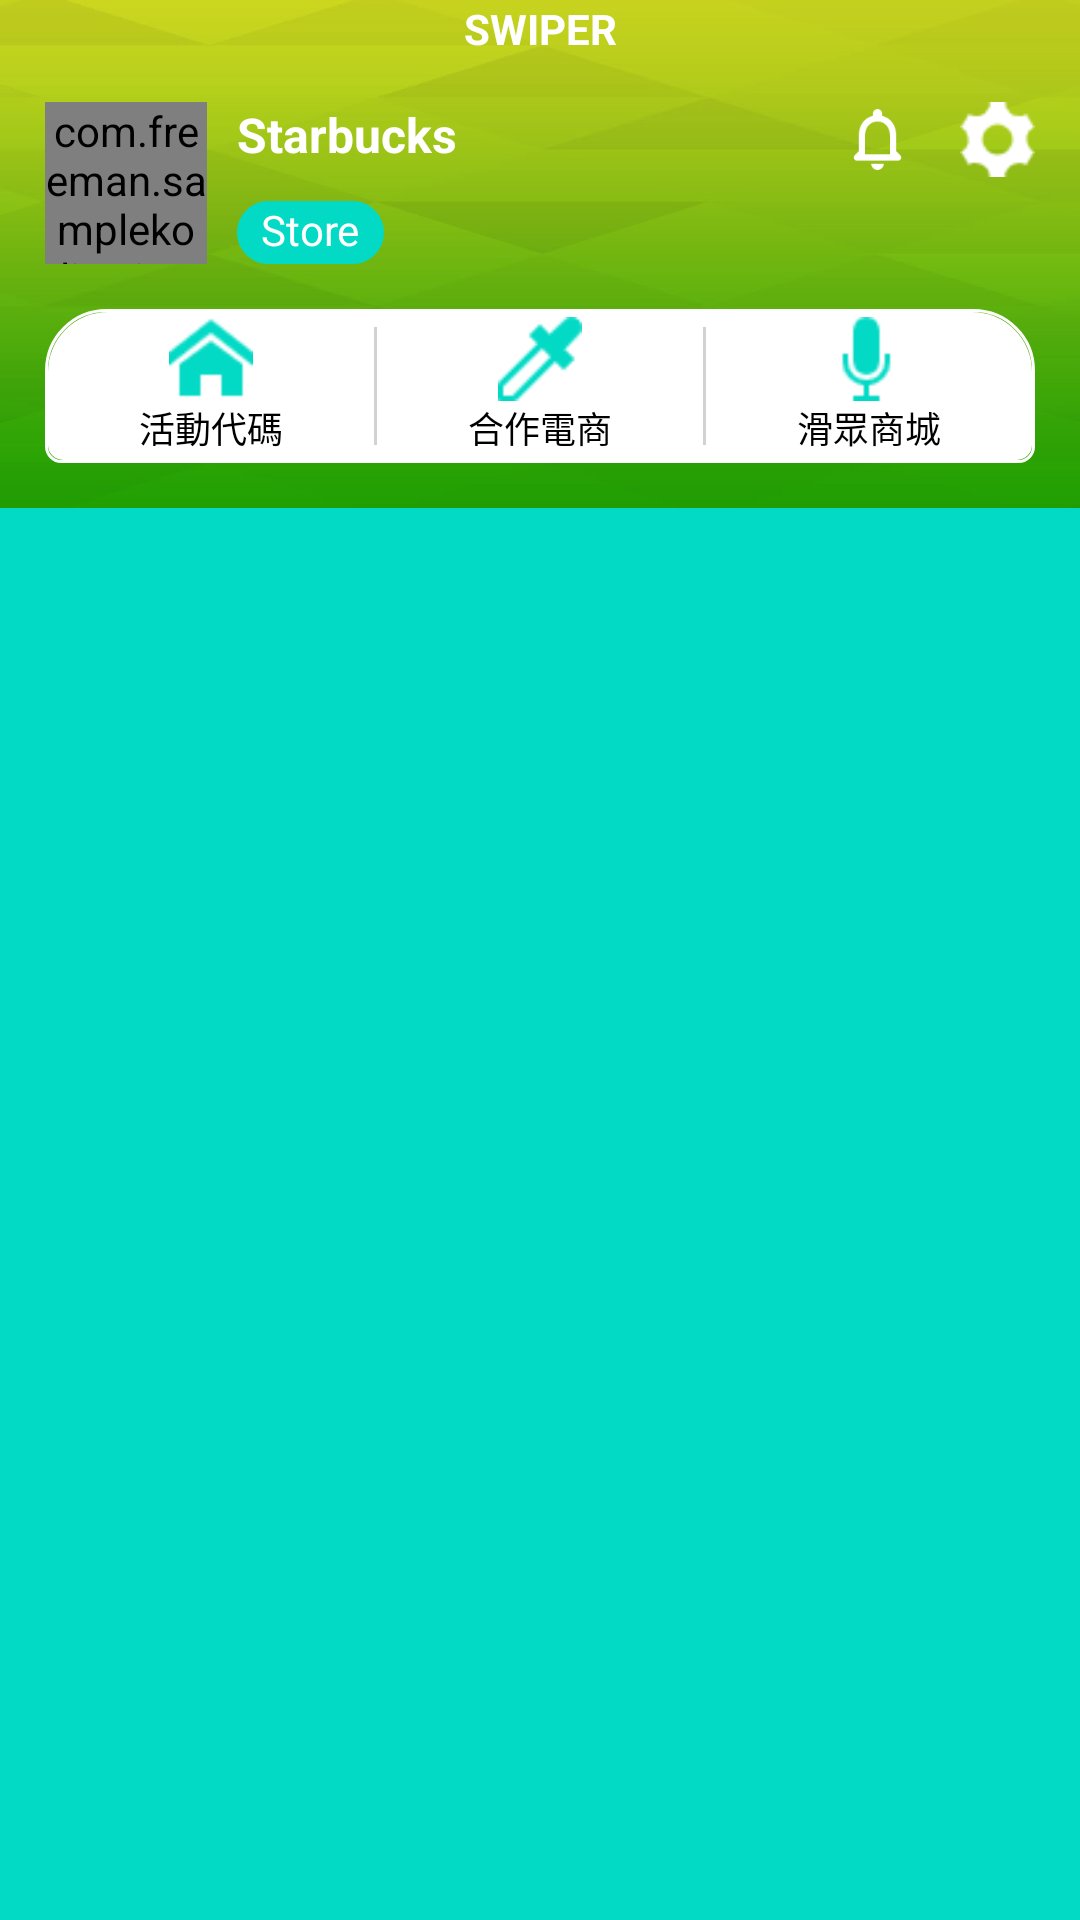

Icons on this 1080*1920 Android screen, each with the point to tap as (x,y):
notify: (877,143)
setting: (997,139)
